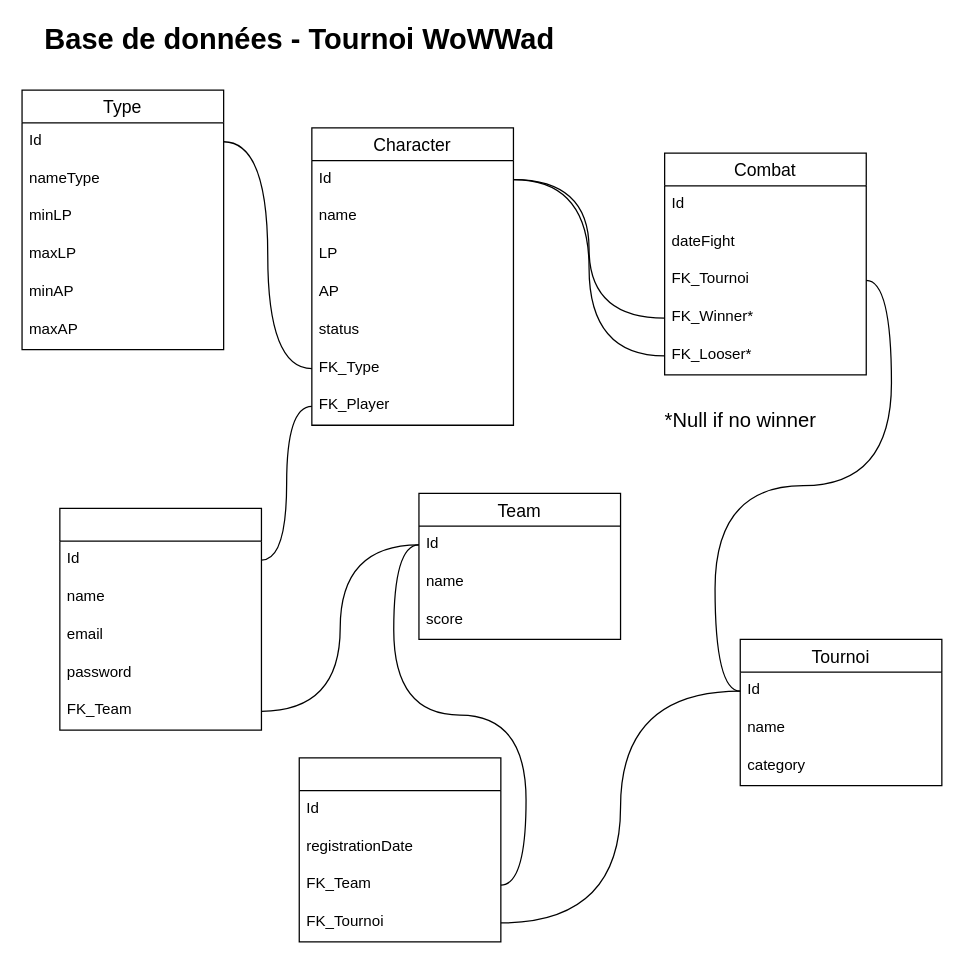
This 964x966 diagram has some shape labels left out. The shapes that lost their labels are listed below. From the top down, each one's box as (x1, y1, x2, y2) in pixels, then its label:
(59, 507, 261, 730): Player
(298, 757, 501, 942): Participation
